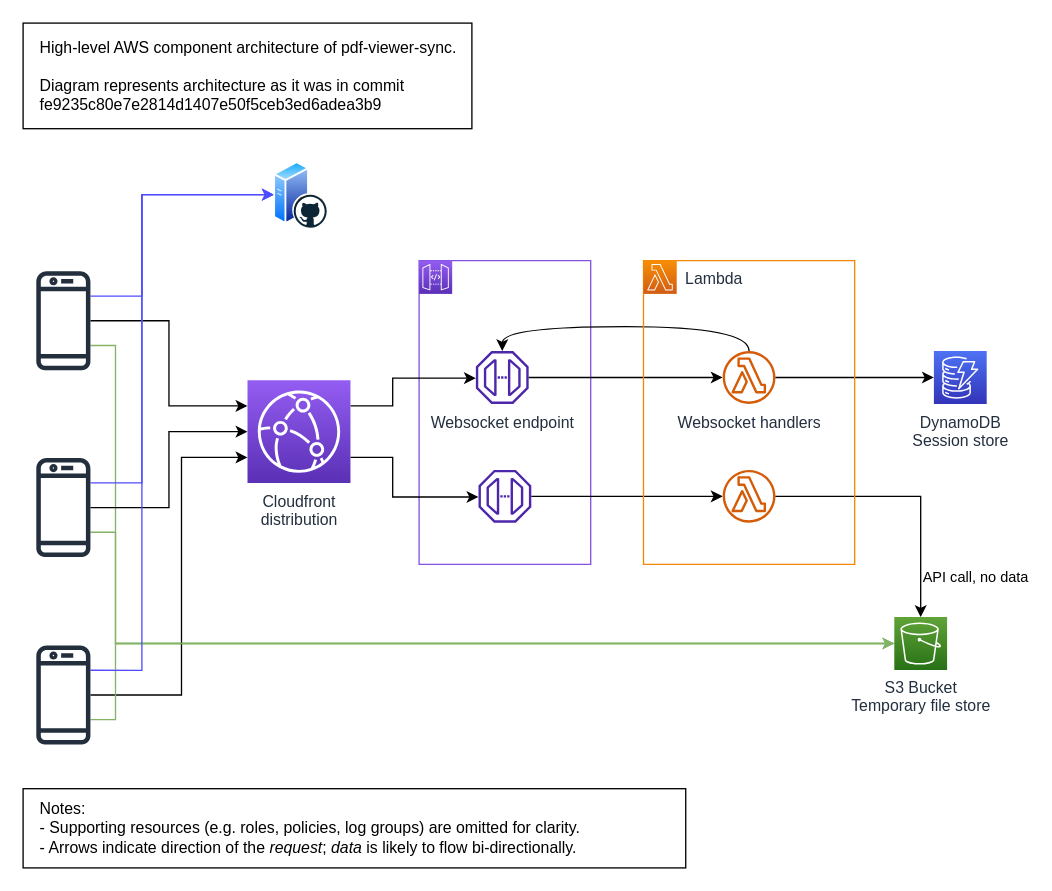
This 1052x891 diagram has some shape labels left out. Each missing label, with the box of its shape:
API Gateway: (418, 259, 591, 564)
Github Pages: (273, 161, 326, 227)
HTTP endpoint: (478, 469, 531, 522)
REST handlers: (722, 469, 775, 522)
